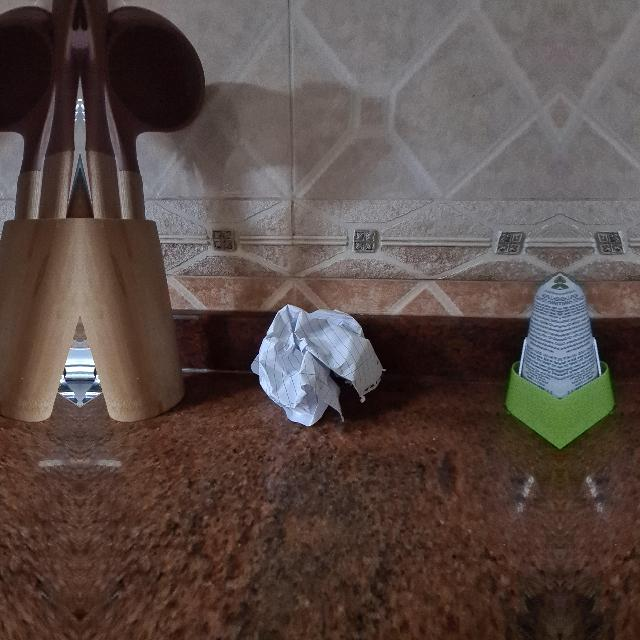paper: (250, 297, 384, 435)
